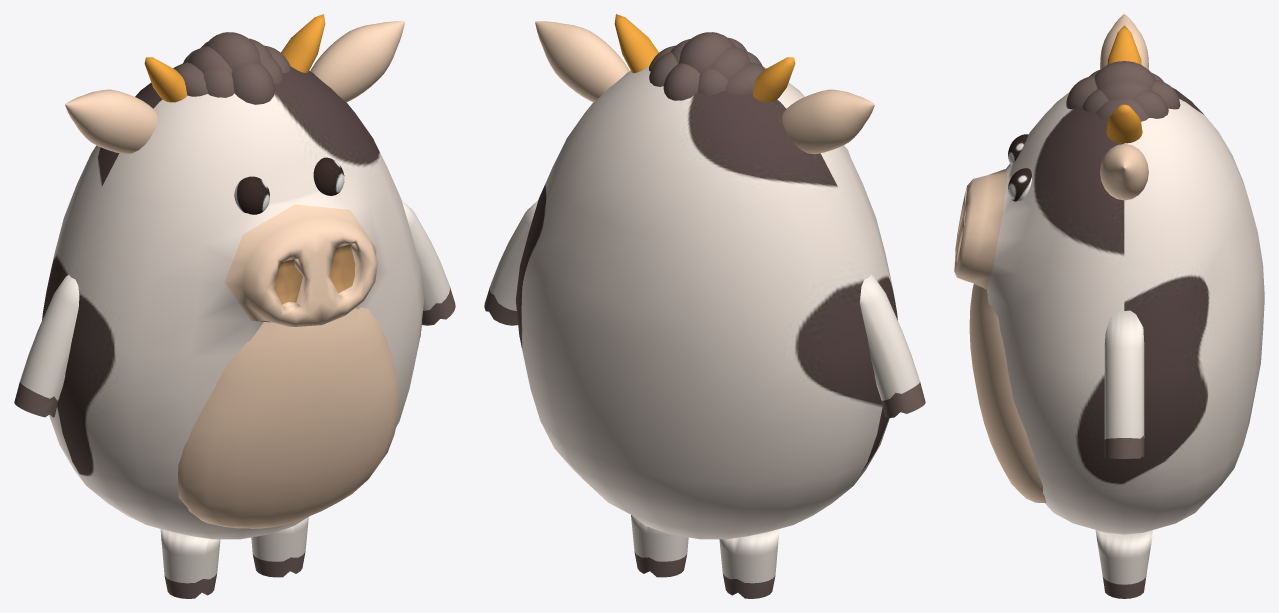
3 views of the same model, side by side, from view 1: azimuth 30°, elevation 25°; view 2: azimuth 150°, elevation 25°; view 3: azimuth 270°, elevation 25° (orthographic). The views are drawn at different scales.
Visible parts, largest first — view 1: Cow; view 2: Cow; view 3: Cow.
Part boxes in pixels (left/top/right/bottom): Cow: left=14, top=14, right=455, bottom=598; Cow: left=484, top=14, right=925, bottom=598; Cow: left=954, top=14, right=1264, bottom=598.
Size of the model in its own units: 6.67 by 7.96 by 4.44.
Materials: 1 (1 with a texture image).
